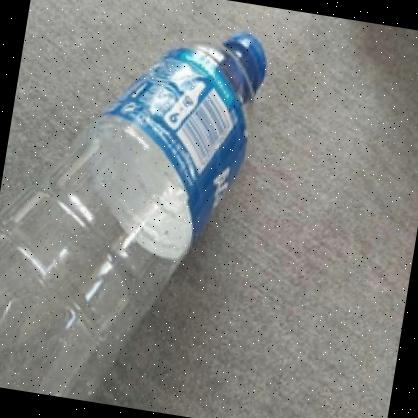bottle: (0, 0, 296, 418)
cap: (224, 28, 280, 83)
label: (80, 27, 276, 250)
